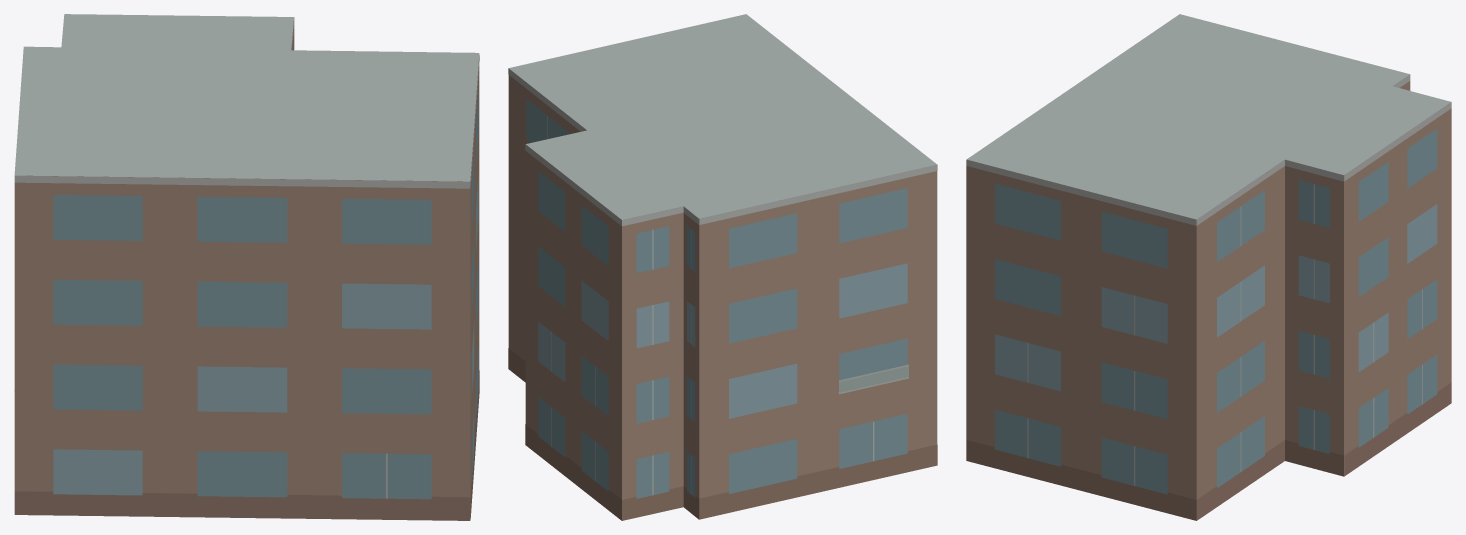
Rendered from survey-upis-32707437.glb.
3 renders of one model, left to right at view 1: azimuth 30°, elevation 25°; view 2: azimuth 150°, elevation 25°; view 3: azimuth 270°, elevation 25°, orthographic. The views are drawn at different scales.
Visible parts, largest first — view 1: survey-upis-32707437.tmp; view 2: survey-upis-32707437.tmp; view 3: survey-upis-32707437.tmp.
Boxes of the visible parts, x1,y1,x2,y2 form: survey-upis-32707437.tmp: (14,14,479,520); survey-upis-32707437.tmp: (508,14,937,520); survey-upis-32707437.tmp: (966,14,1451,520).
Bounding box in the file's own units: 16.98 × 11.6 × 16.94.
